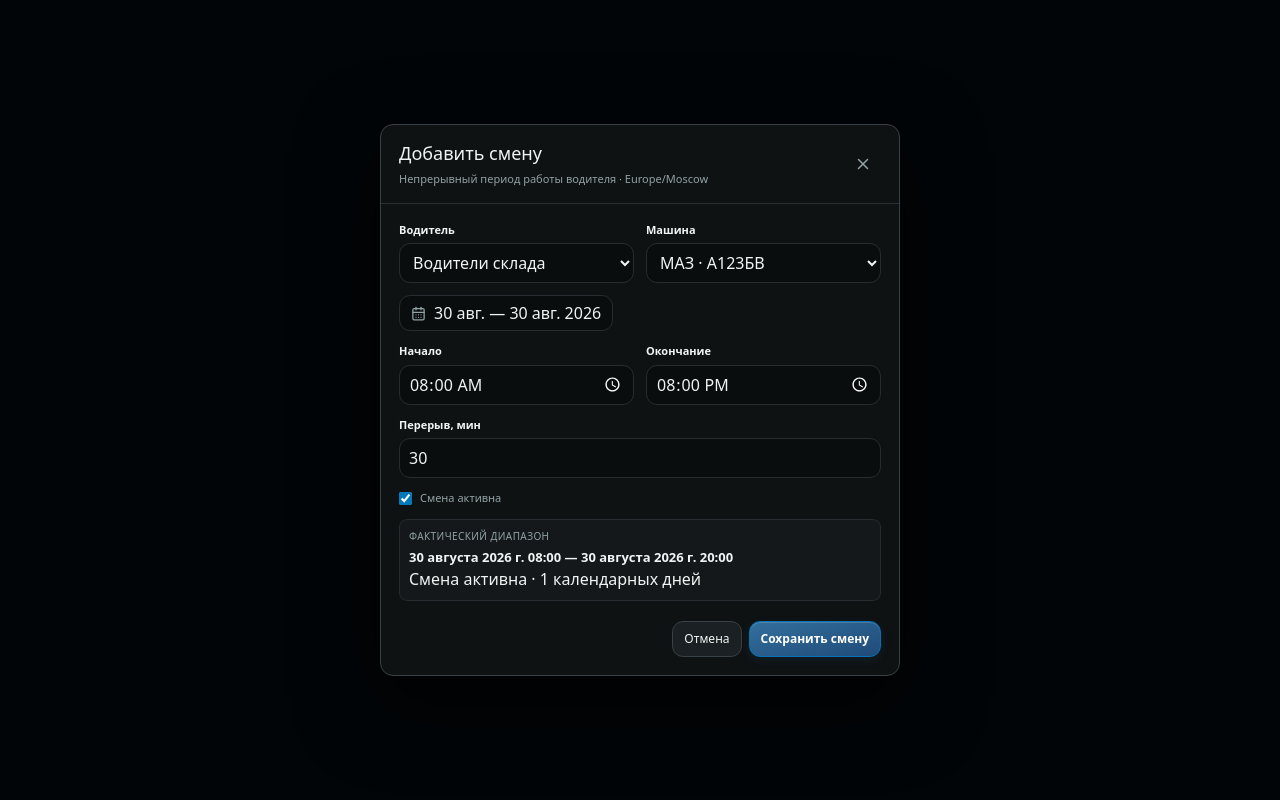
Test: driver shift range › uses next-day duration for an overnight shift and rejects a break that consumes it
Step 1. Replace the text in the time field labelled "Начало" with "22:00" → (516, 384), box [399,364,634,404]
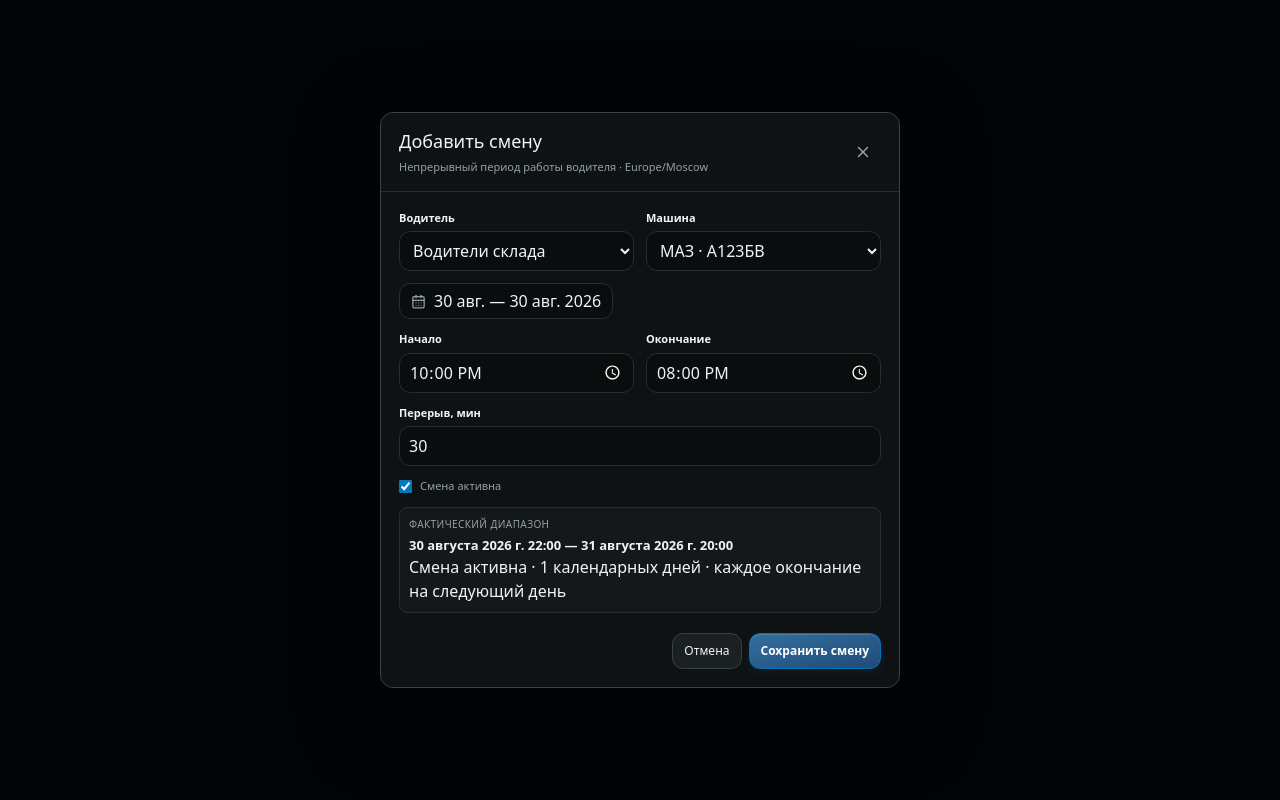
Step 2. Replace the text in the time field labelled "Окончание" with "06:00" → (764, 372), box [646,352,881,392]
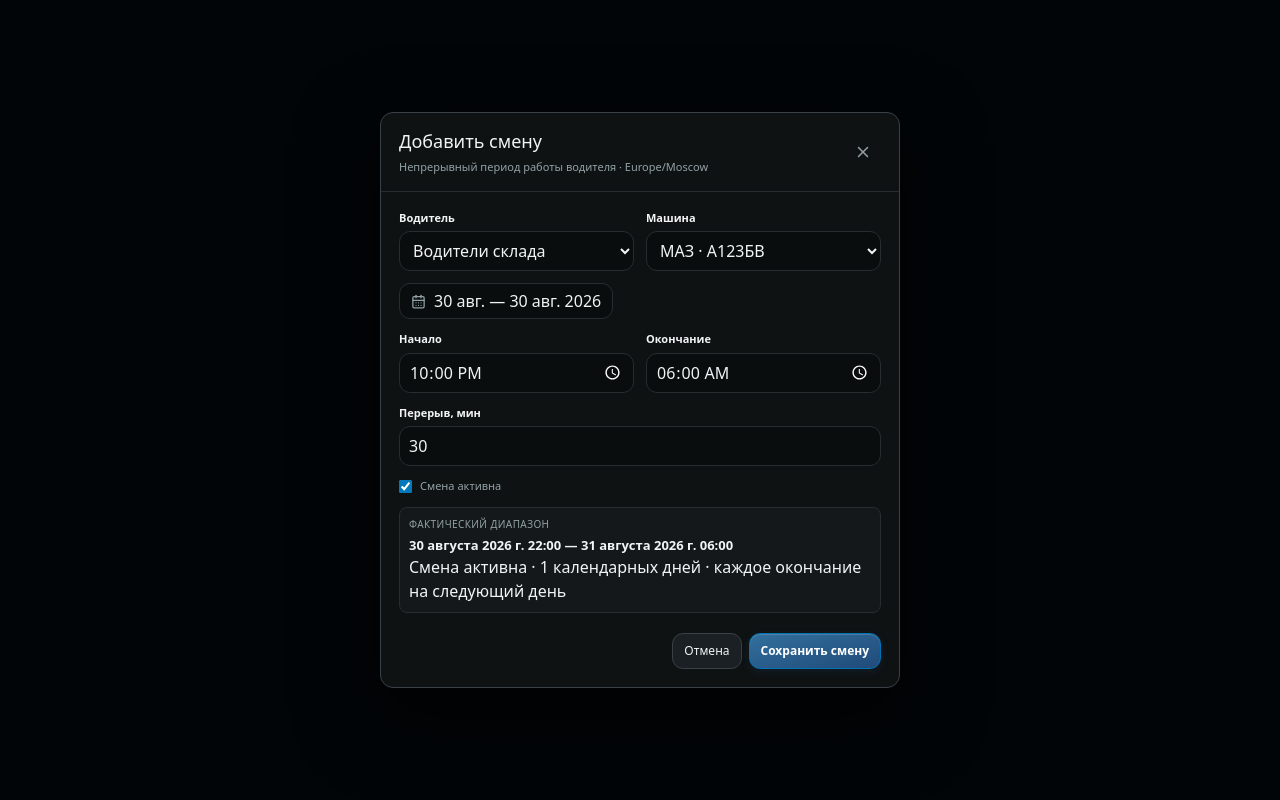
Step 3. Replace the text in the number field labelled "Перерыв, мин" with "480" → (640, 446), box [399,426,881,466]
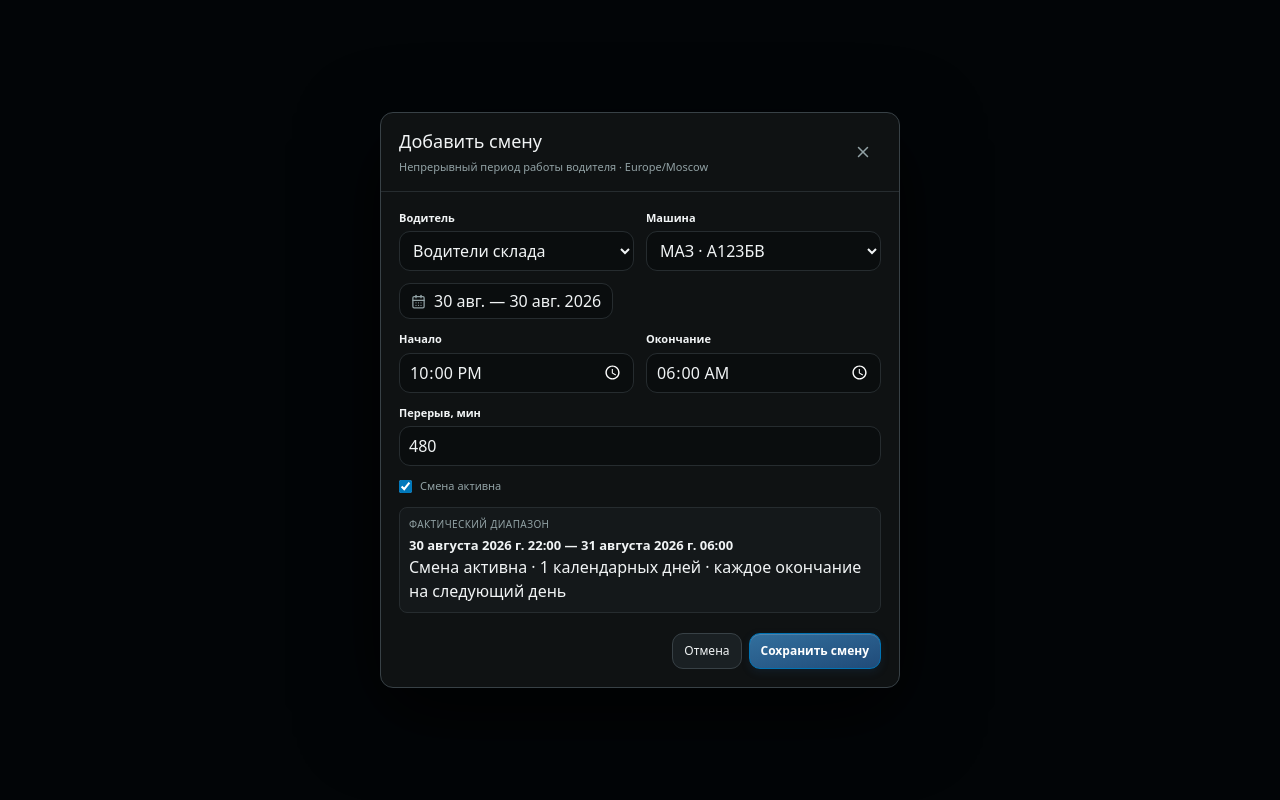
Step 4. Click the button "Сохранить смену" → (815, 651), box [748,633,881,669]
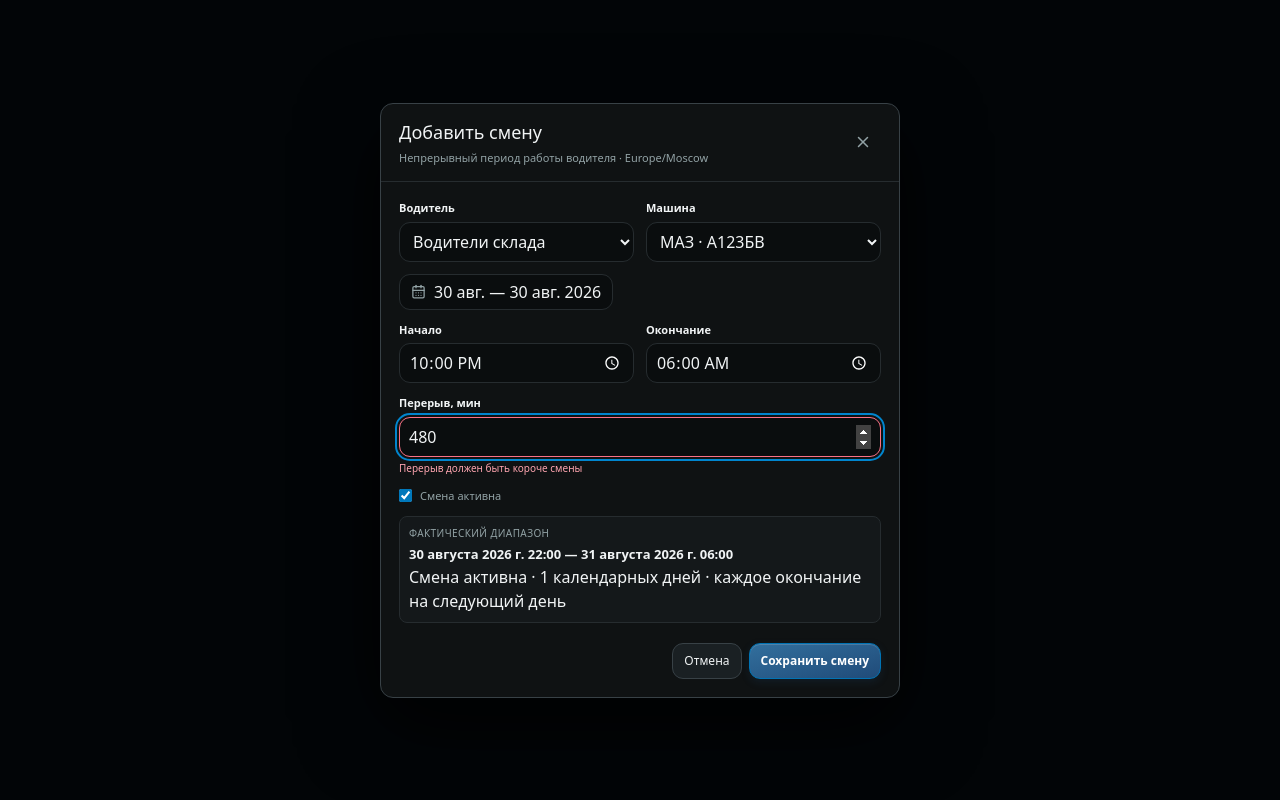
Now the text "Перерыв должен быть короче смены" is shown, box [399,460,582,474]
